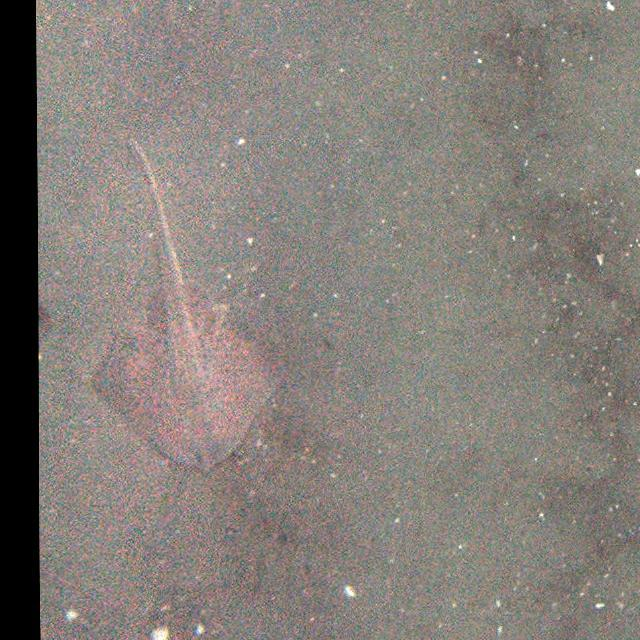skate: (94, 134, 280, 477)
